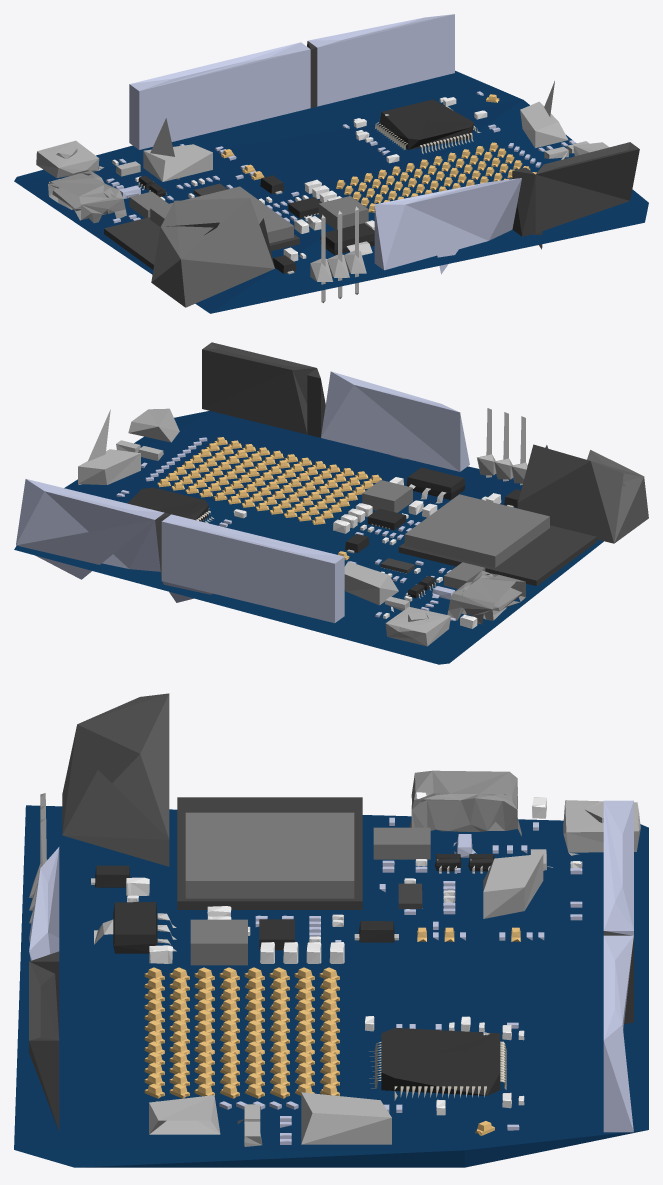
File: arduino-uno-r4-wifi.glb
3 renders of one model, top to bottom at view 1: azimuth 30°, elevation 25°; view 2: azimuth 150°, elevation 25°; view 3: azimuth 270°, elevation 25°, orthographic. The views are drawn at different scales.
Parts seen in each view (by area): view 1: colour 1, colour 2, colour 16, colour 18, colour 3, colour 10, colour 6, colour 9, colour 7, colour 8, colour 17, colour 5 (+1 smaller); view 2: colour 2, colour 1, colour 16, colour 8, colour 6, colour 18, colour 9, colour 10, colour 3, colour 7, colour 17, colour 5 (+1 smaller); view 3: colour 1, colour 8, colour 6, colour 2, colour 16, colour 3, colour 10, colour 9, colour 17, colour 5, colour 18, colour 7 (+3 smaller).
Boxes of the visible parts, x1,y1,x2,y2 form: colour 1: [14, 70, 648, 313]; colour 2: [106, 14, 575, 274]; colour 16: [151, 198, 274, 307]; colour 18: [532, 142, 639, 249]; colour 3: [138, 99, 474, 273]; colour 10: [116, 81, 589, 181]; colour 6: [221, 94, 536, 212]; colour 9: [104, 41, 535, 269]; colour 7: [36, 140, 366, 302]; colour 8: [129, 186, 368, 243]; colour 17: [48, 170, 126, 223]; colour 5: [49, 97, 487, 261]; colour 2: [16, 371, 469, 623]; colour 1: [14, 411, 603, 664]; colour 16: [518, 444, 648, 543]; colour 8: [362, 480, 549, 588]; colour 6: [157, 437, 381, 560]; colour 18: [202, 342, 316, 434]; colour 9: [155, 368, 596, 586]; colour 10: [78, 409, 409, 611]; colour 3: [127, 467, 520, 598]; colour 7: [385, 408, 527, 646]; colour 17: [447, 570, 525, 624]; colour 5: [233, 477, 501, 628]; colour 1: [14, 805, 648, 1167]; colour 8: [185, 812, 430, 965]; colour 6: [144, 927, 520, 1135]; colour 2: [29, 800, 633, 1144]; colour 16: [62, 693, 169, 866]; colour 3: [95, 854, 500, 1095]; colour 10: [237, 849, 552, 1146]; colour 9: [29, 797, 633, 1037]; colour 17: [409, 770, 521, 836]; colour 5: [126, 797, 582, 1115]; colour 18: [29, 961, 59, 1131]; colour 7: [29, 793, 640, 923].
Bounding box in the file's own units: 0.0705 × 0.0145 × 0.0533.
